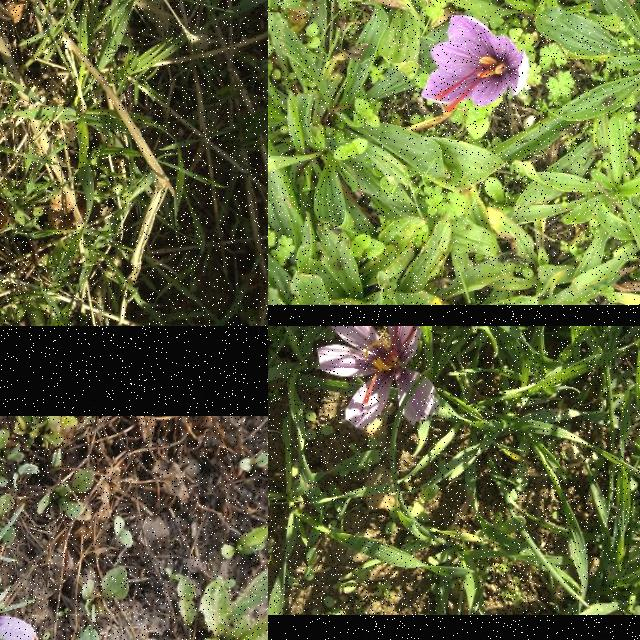flower: (316, 326, 439, 431), (422, 16, 530, 112), (0, 615, 38, 640)
